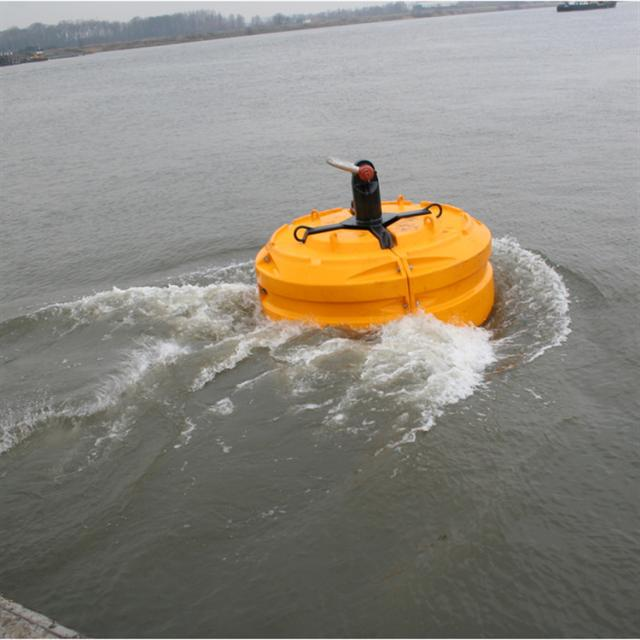buoy: (243, 150, 493, 342)
